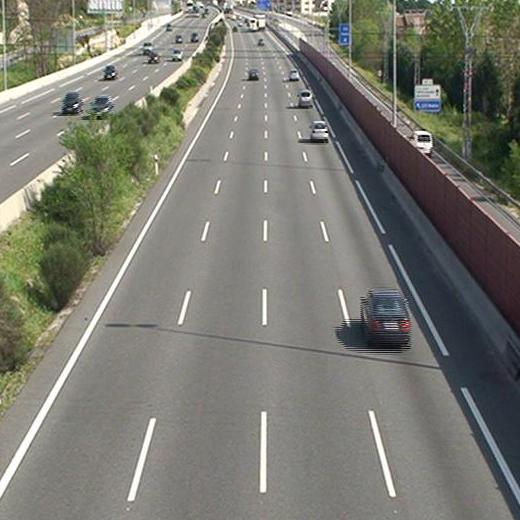car: (361, 290, 410, 345), (310, 121, 328, 141), (299, 90, 313, 108), (247, 69, 258, 82), (289, 69, 299, 81)
